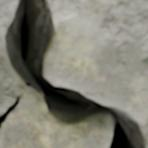broken_brick: (0, 0, 111, 147), (46, 0, 147, 131)
crack: (1, 0, 147, 147), (0, 93, 24, 130)
